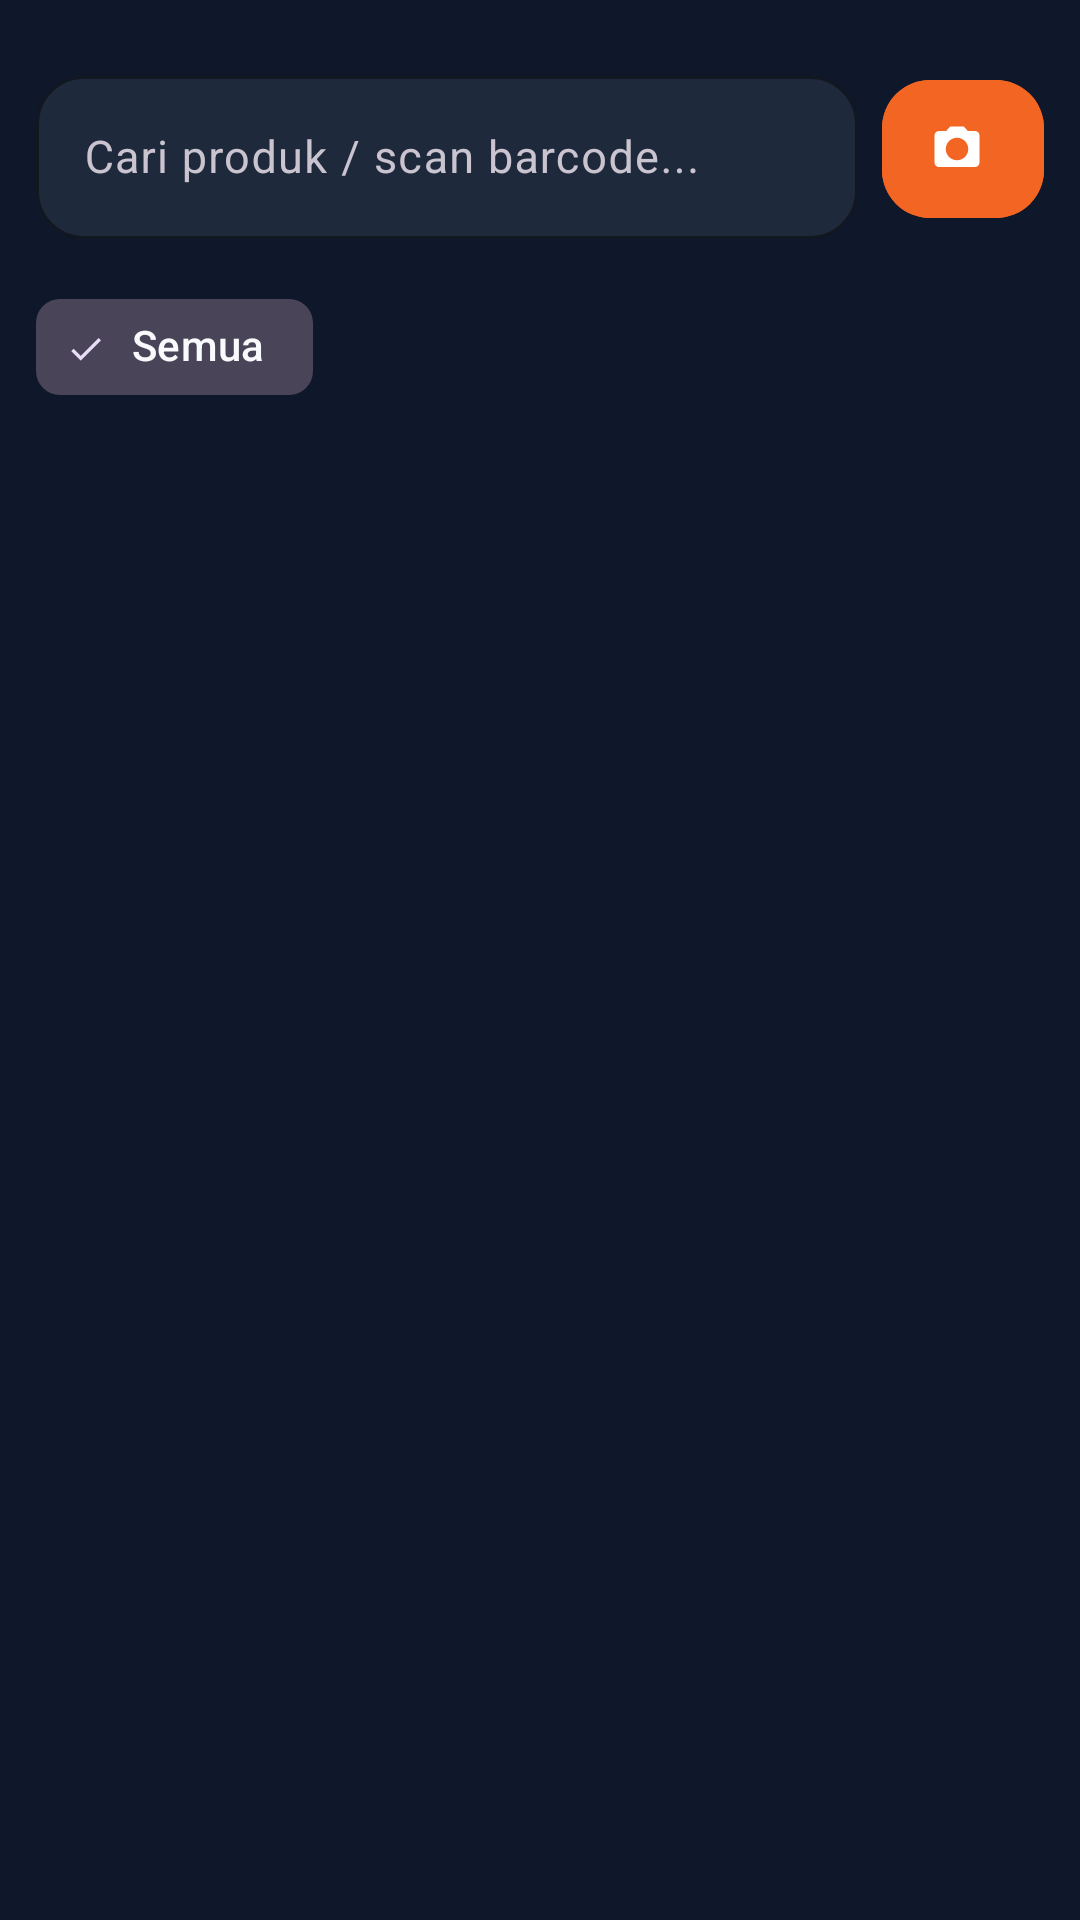

Where icons sit on this 1080w x 1920h app screen, as (x1, y1, x2, y2):
camera: (882, 80, 1044, 218)
